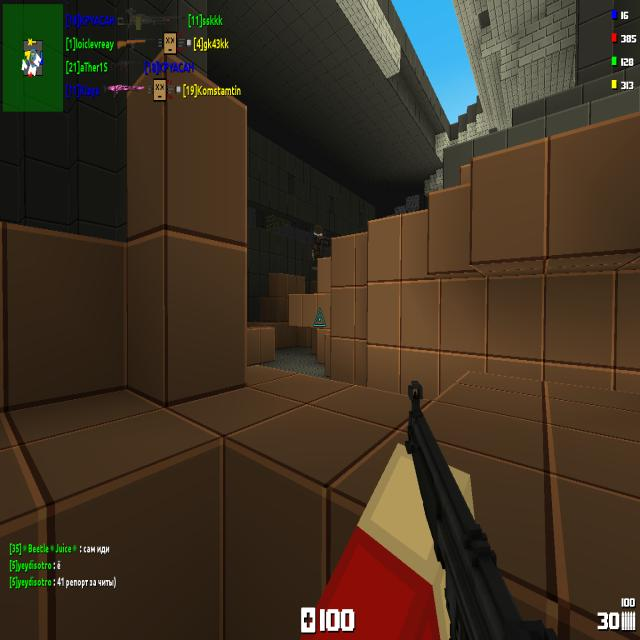enemy: (311, 223, 330, 270)
